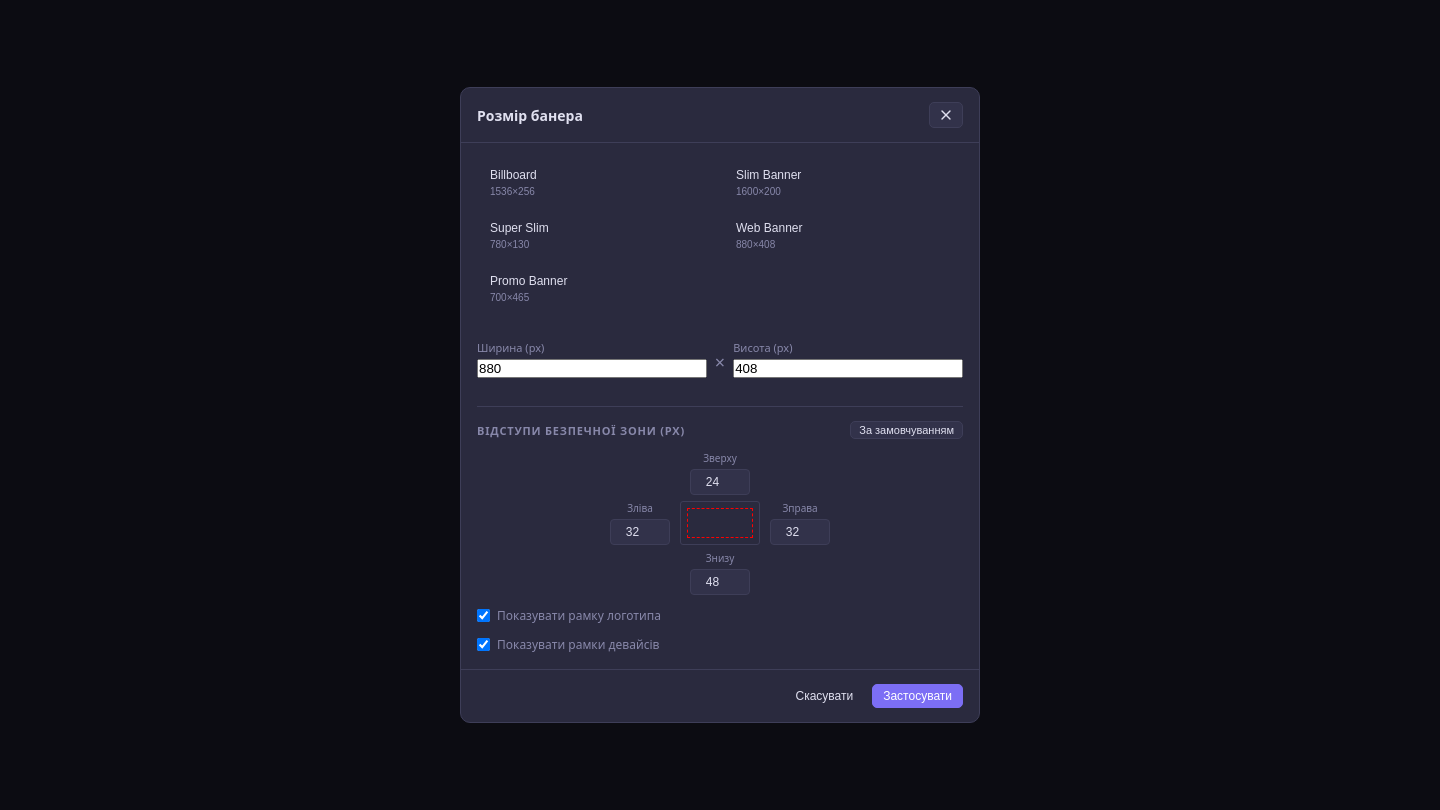
Test: SizeModal › "За замовчуванням" button resets margins to preset defaults
Change top margin
Replace the text in the number field below "Зверху" with "99" at (720, 482), box [690,469,750,495]
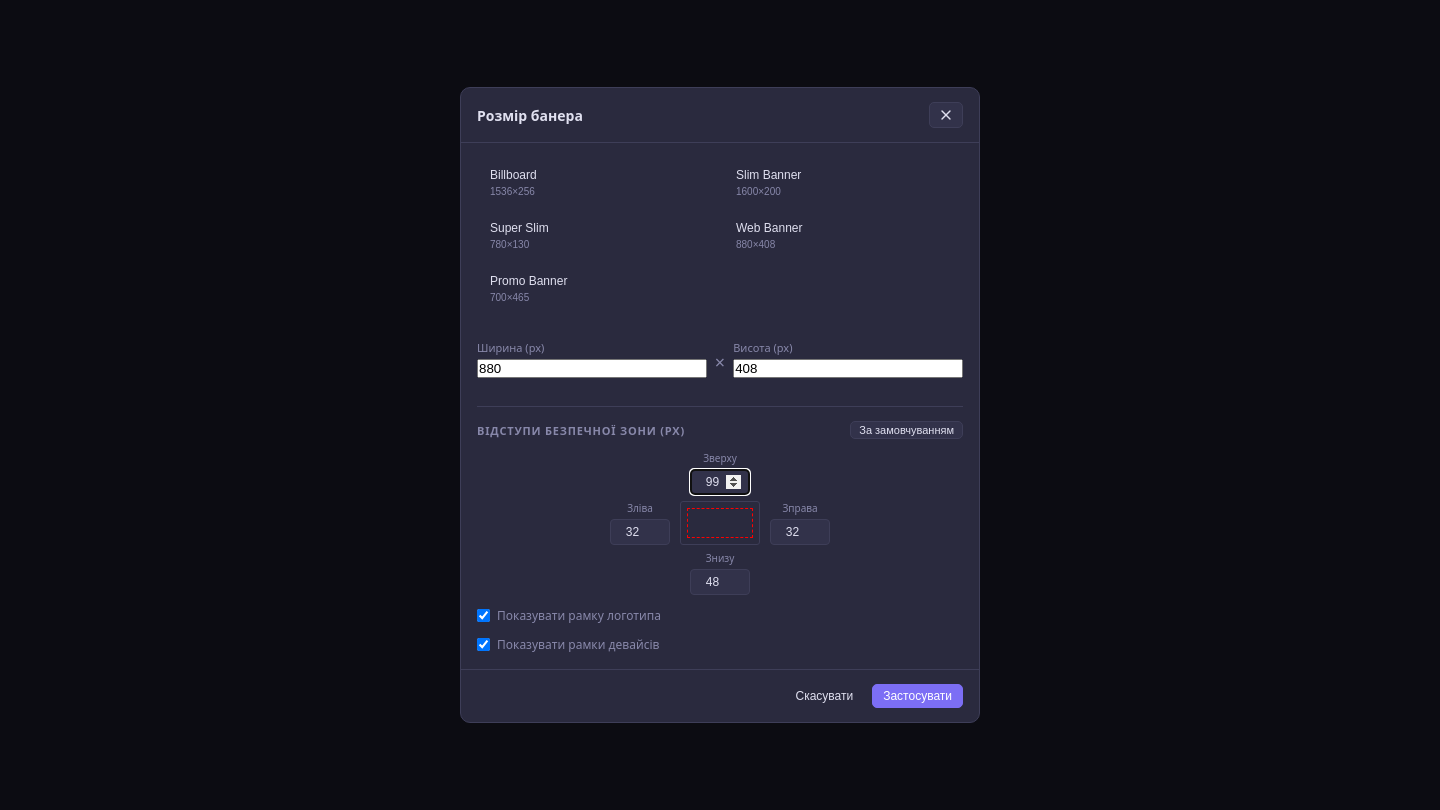
Click the button "За замовчуванням" at (907, 430), box [850,421,963,439]
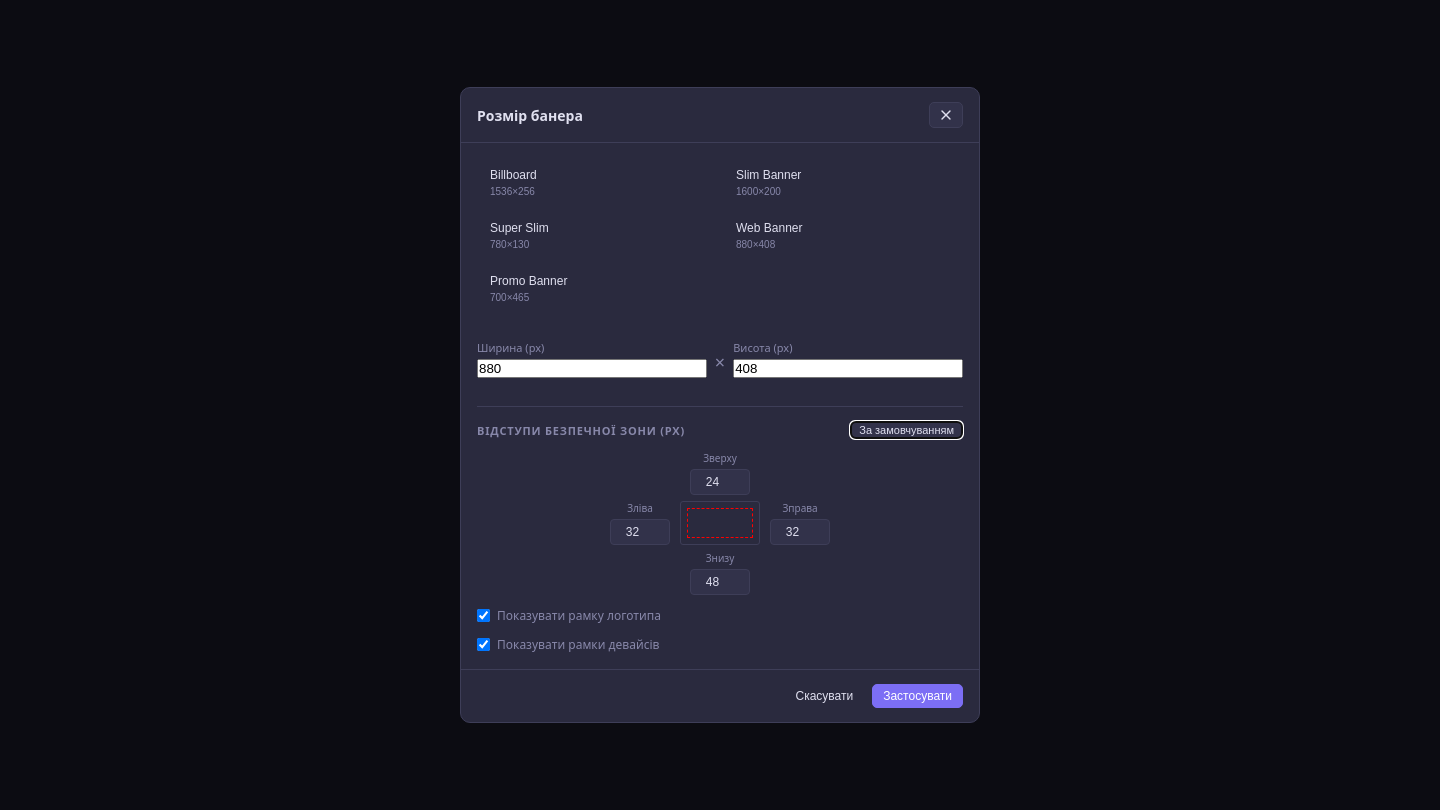
Check: the number field below "Зверху" does not hold "99", box [690,469,750,495]
